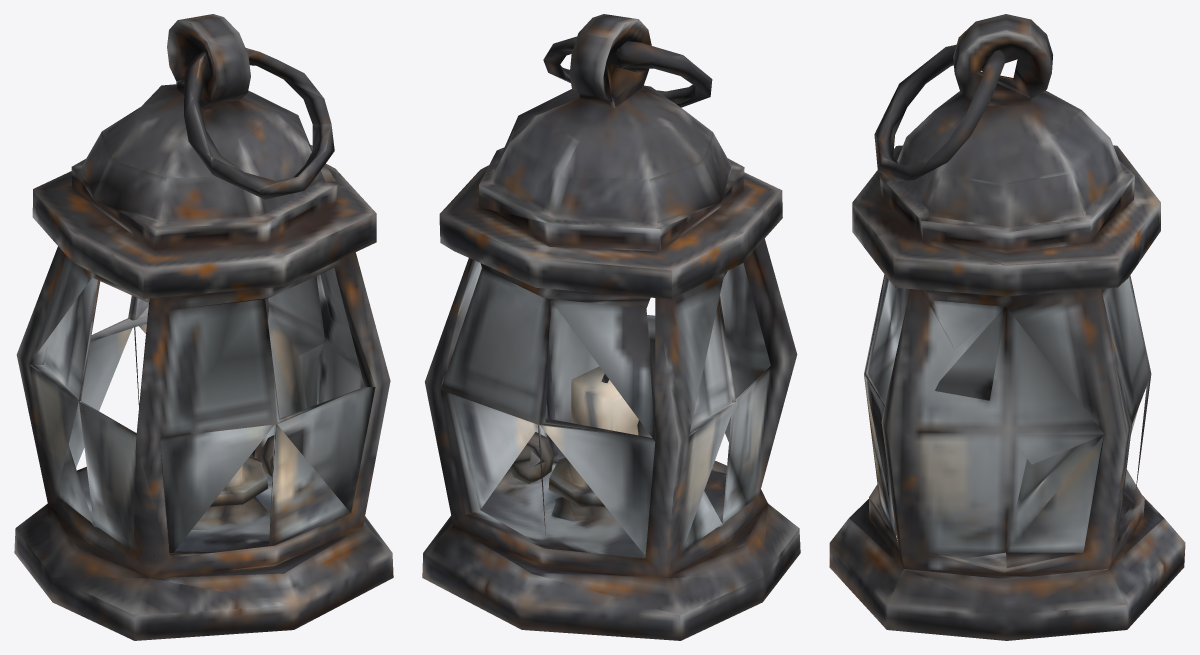
Rendered from prop_lantern.glb.
3 views of the same model, side by side, from view 1: azimuth 30°, elevation 25°; view 2: azimuth 150°, elevation 25°; view 3: azimuth 270°, elevation 25° (orthographic).
Size of the model in its own units: 0.2619 by 0.45 by 0.2658.
Materials: 1 (1 with a texture image).
